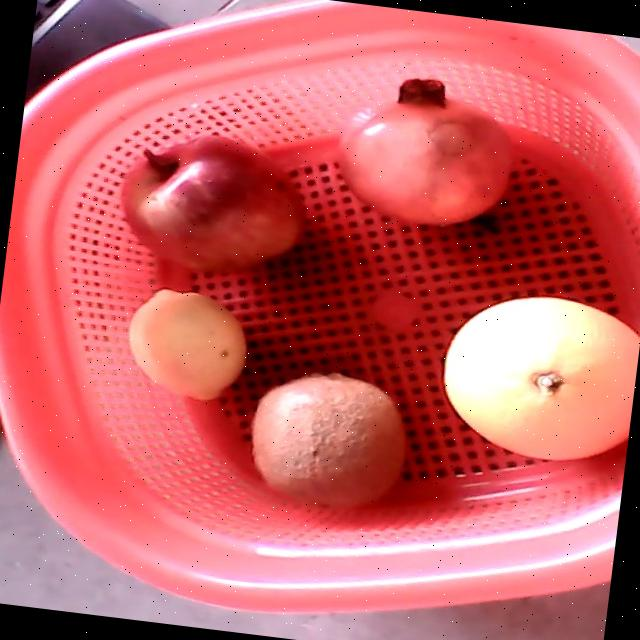apple: (119, 134, 307, 273)
lemon: (254, 372, 405, 506), (128, 286, 245, 398)
orange: (444, 296, 639, 461)
pomegranate: (339, 77, 513, 223)
